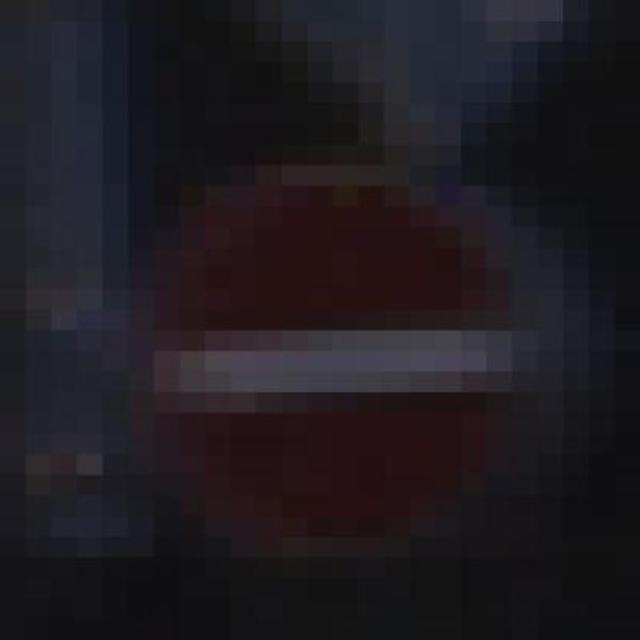No Entry: (85, 120, 547, 554)
